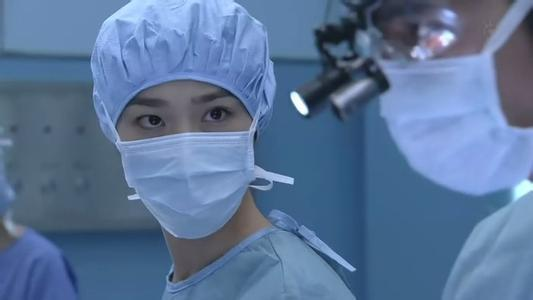mask: (373, 58, 531, 201), (110, 131, 260, 241)
